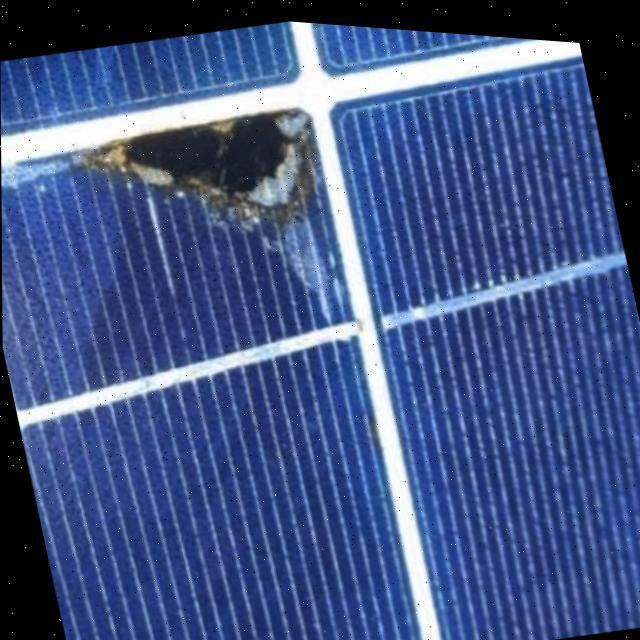Structural Damage: (84, 103, 331, 246)
